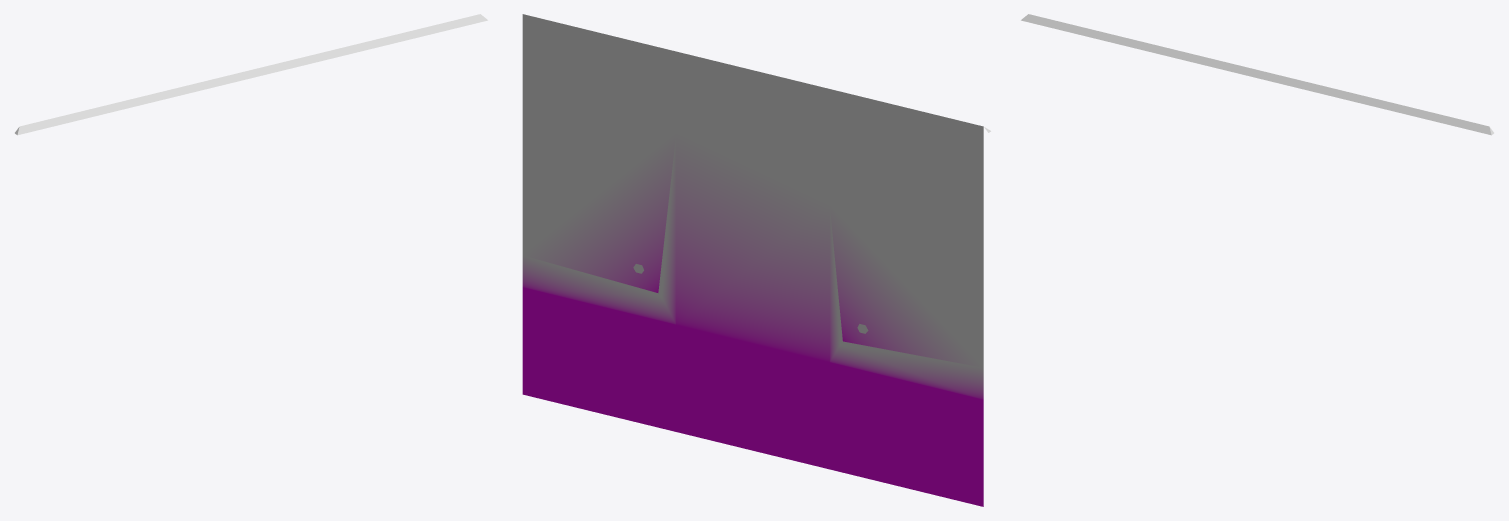
The model's file is Lane-factory_gap_end.glb.
3 views of the same model, side by side, from view 1: azimuth 30°, elevation 25°; view 2: azimuth 150°, elevation 25°; view 3: azimuth 330°, elevation 25° (orthographic).
Visible parts, largest first — view 1: Lane-factory_gap_end; view 2: Lane-factory_gap_end; view 3: Lane-factory_gap_end.
Boxes of the visible parts, bbox=[...] form: Lane-factory_gap_end: bbox=[15, 14, 487, 135]; Lane-factory_gap_end: bbox=[522, 14, 990, 506]; Lane-factory_gap_end: bbox=[1021, 14, 1493, 135].
Bounding box in the file's own units: 9.2 × 7.1 × 0.1079.
